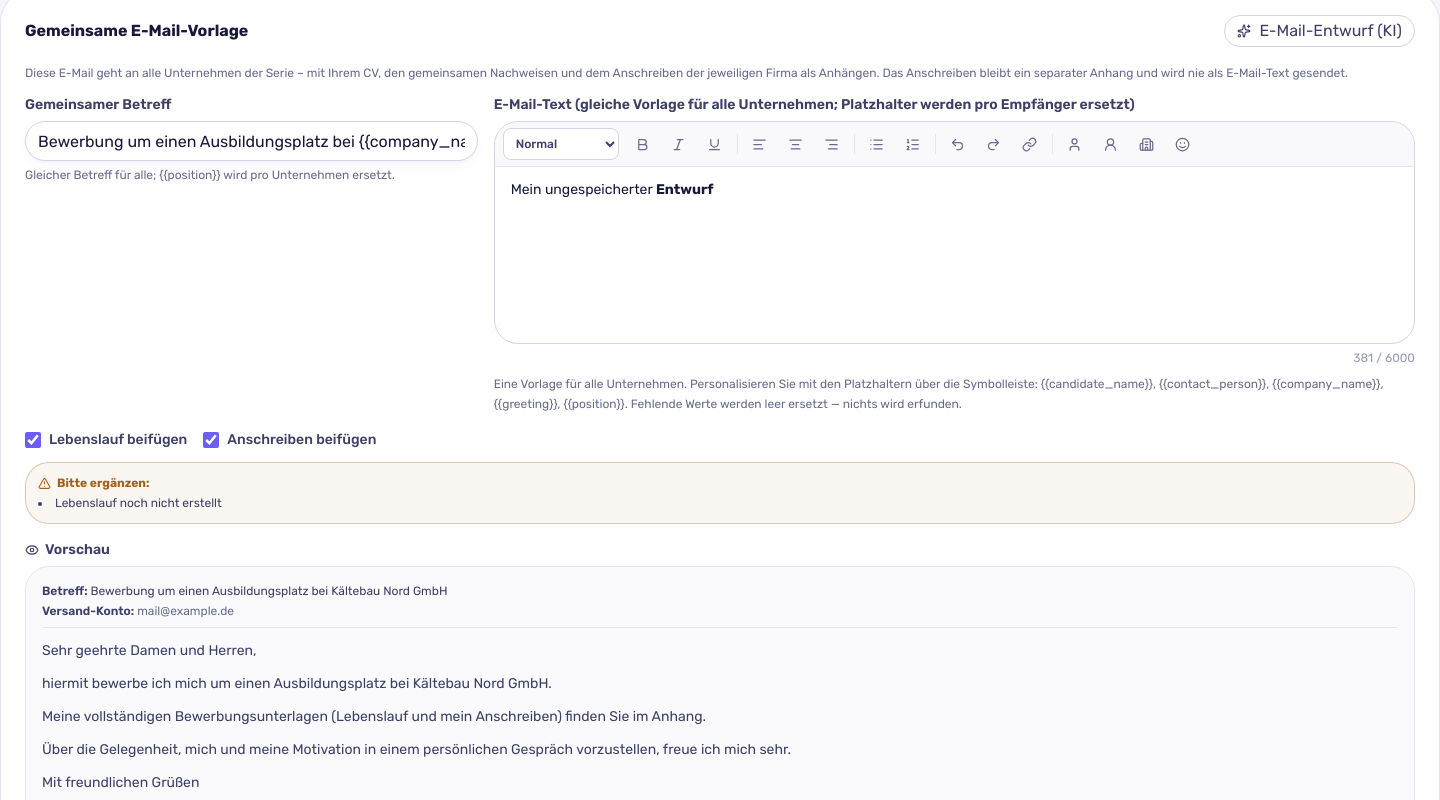
Test: Step 6 (simplified layout) › selecting a sending account persists immediately via the EXISTING settings action (saved values; the in-progress draft is NOT flushed)
Clear the field labelled "Mein ungespeicherter Entwurf" at (612, 190), box x1=511 y1=181 x2=714 y2=198
(page scrolled)
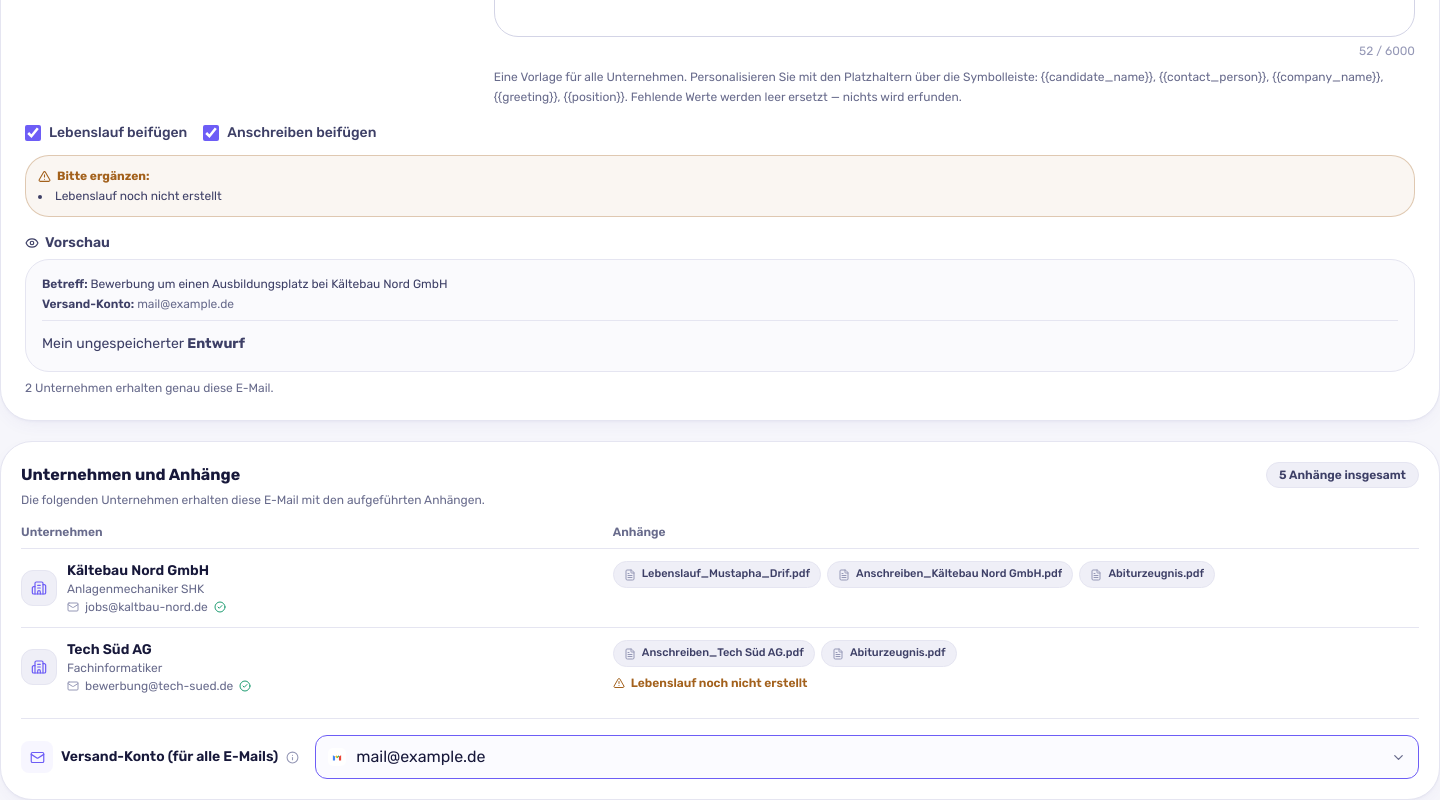
# Select the other account:
Click the button with aria-label "Versand-Konto (für alle E-Mails)" at (421, 757), box x1=315 y1=735 x2=1419 y2=779
(page scrolled)
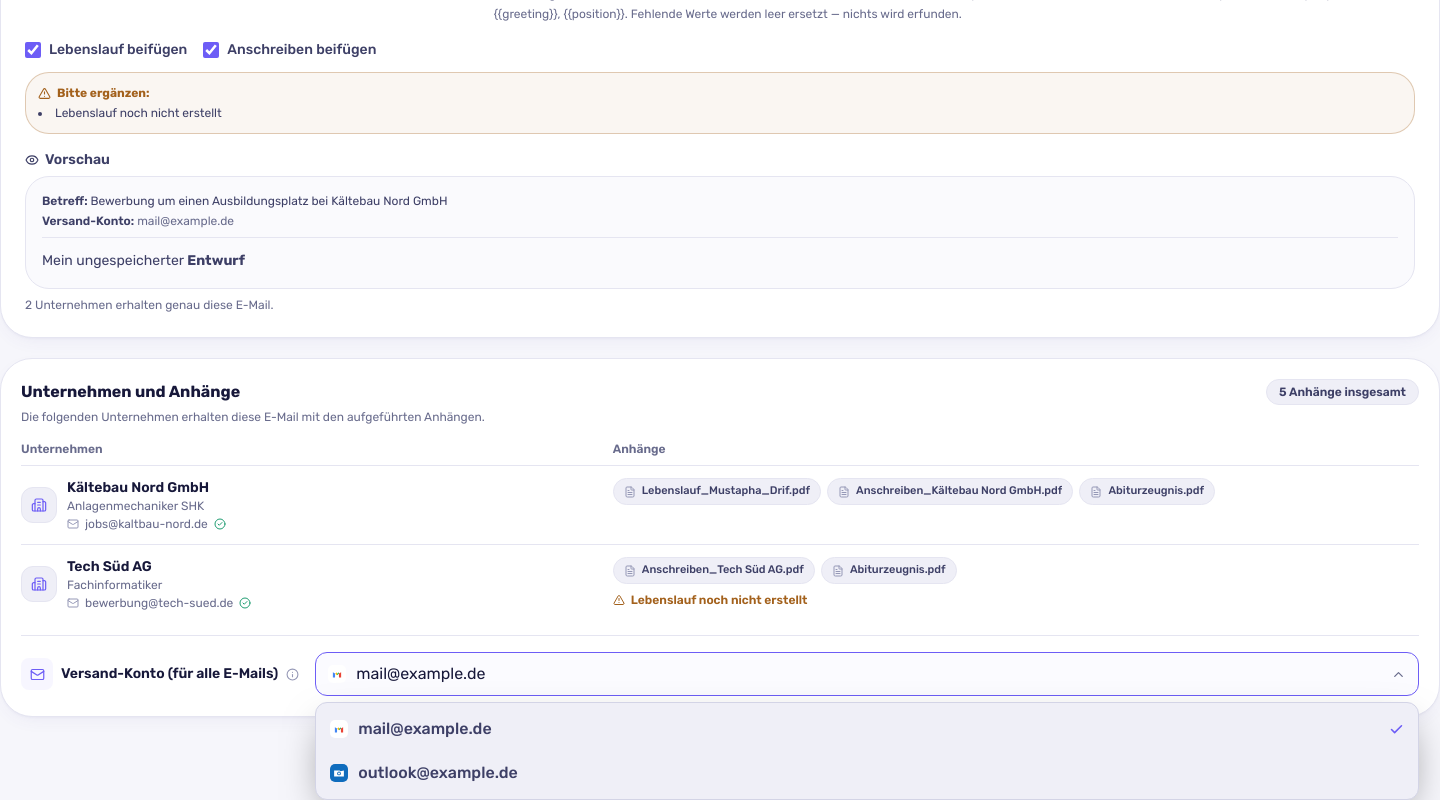
Click the option "outlook@example.de" at (438, 773), box x1=320 y1=751 x2=1414 y2=795
(page scrolled)
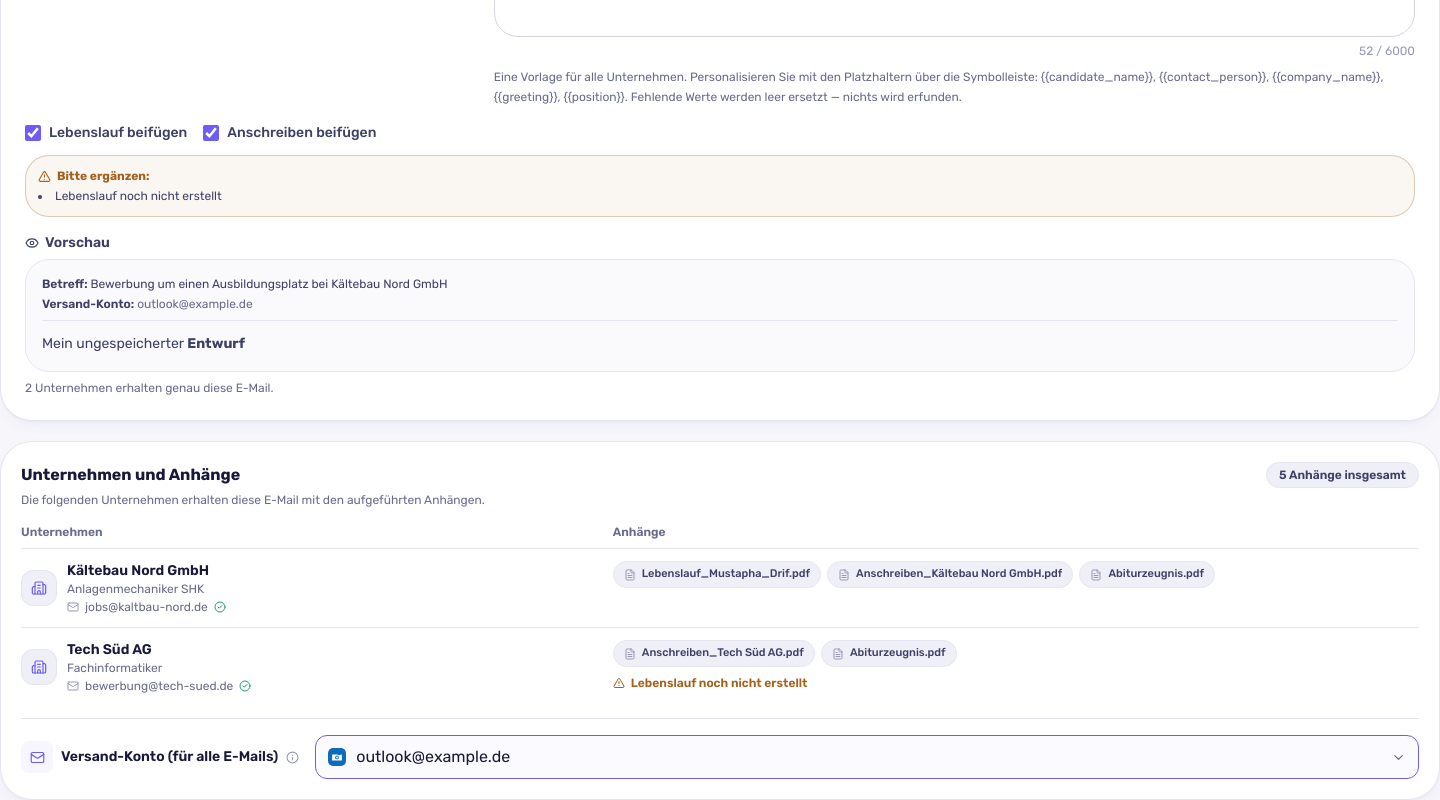
Expected: the button with aria-label "Versand-Konto (für alle E-Mails)" reads "outlook@example.de", x1=315 y1=735 x2=1419 y2=779
